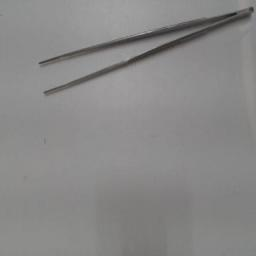DeBakey Dissector: (32, 4, 254, 102)
